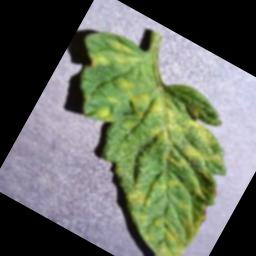Leaf_Mold: (62, 63, 256, 256), (81, 28, 146, 87), (91, 101, 119, 127), (111, 73, 136, 95)
